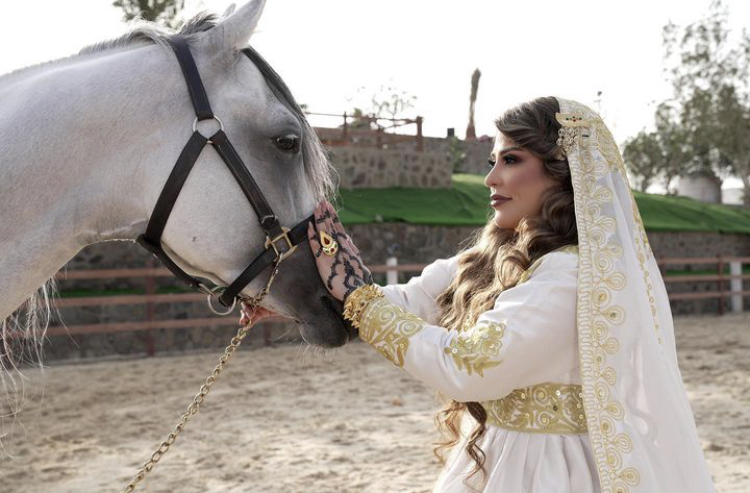Saudi_Founding_Day: (304, 92, 721, 493)
